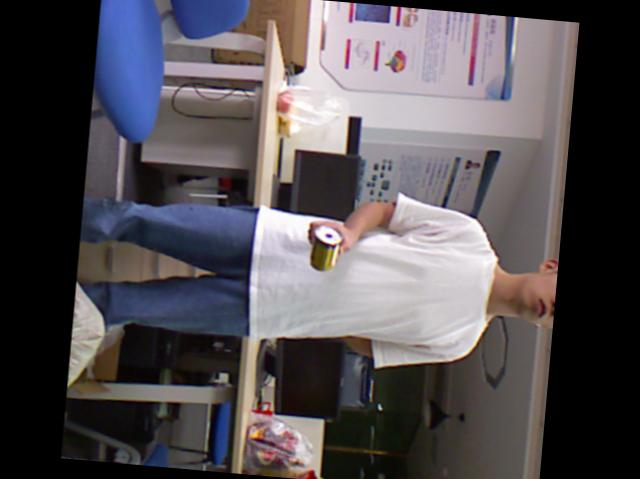metal: (310, 221, 342, 269)
